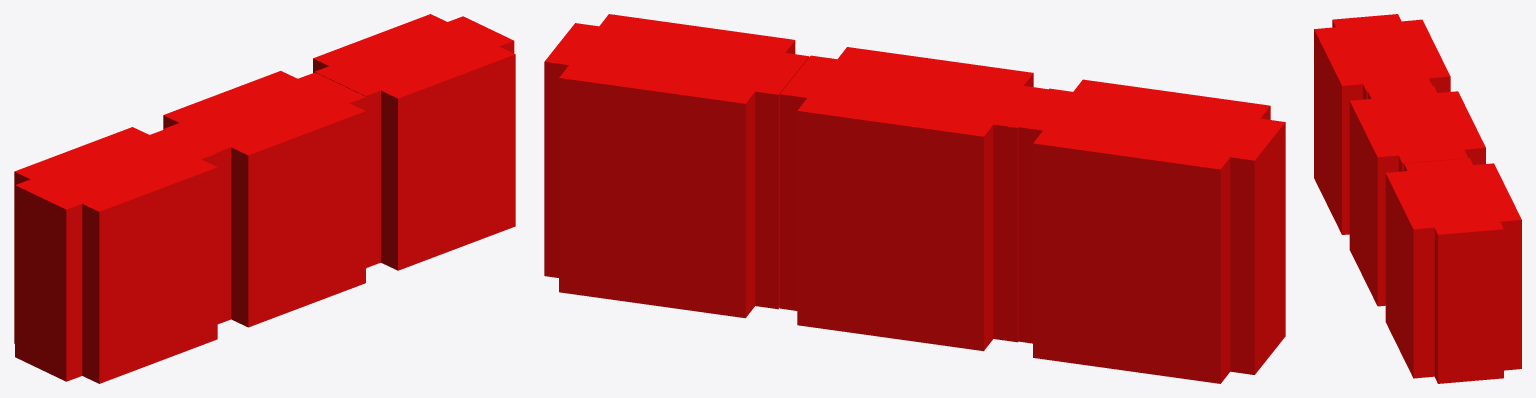
File: PDV_Dummy_(T26_T28).fbx
The picture shows the model from 3 angles, left to right: view 1: azimuth 30°, elevation 25°; view 2: azimuth 150°, elevation 25°; view 3: azimuth 270°, elevation 25°; orthographic projection. The views are drawn at different scales.
Parts seen in each view (by area): view 1: Cube_2, Cube_1, Cube, Cube__1__2, Cube__1__1, Cube__1_; view 2: Cube_2, Cube_1, Cube, Cube__1__2, Cube__1__1, Cube__1_; view 3: Cube, Cube_1, Cube_2, Cube__1_, Cube__1__1, Cube__1__2.
Boxes of the visible parts, <box> form: Cube_2: <box>14,127,217,383</box>; Cube_1: <box>163,71,365,327</box>; Cube: <box>313,14,515,270</box>; Cube__1__2: <box>15,129,216,381</box>; Cube__1__1: <box>164,72,366,324</box>; Cube__1_: <box>314,16,514,267</box>; Cube_2: <box>1033,79,1270,383</box>; Cube_1: <box>797,47,1033,351</box>; Cube: <box>559,14,795,318</box>; Cube__1__2: <box>1018,88,1285,374</box>; Cube__1__1: <box>780,55,1047,342</box>; Cube__1_: <box>544,23,809,309</box>; Cube: <box>1385,163,1521,378</box>; Cube_1: <box>1349,91,1485,306</box>; Cube_2: <box>1314,19,1450,234</box>; Cube__1_: <box>1404,158,1503,383</box>; Cube__1__1: <box>1368,85,1467,171</box>; Cube__1__2: <box>1332,14,1432,99</box>.
Bounding box in the file's own units: 5330 × 1678 × 2120.
